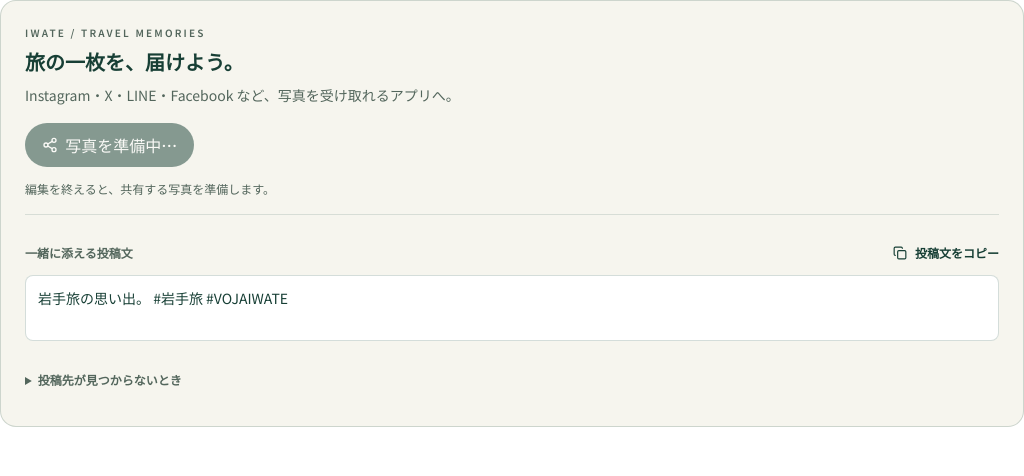
Scenario: PhotoSharePanel › keeps the caption selectable if clipboard permission is denied
Click the button "投稿文をコピー" at (946, 253), box [893,231,999,275]
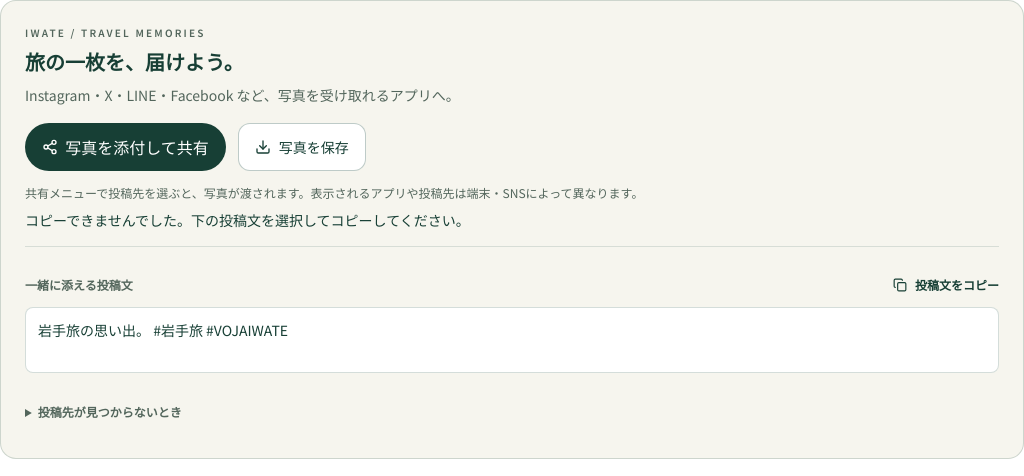
Expected: the text box labelled "一緒に添える投稿文" holds "岩手旅の思い出。 #岩手旅 #VOJAIWATE", [25,307,999,373]
Expected: the text "コピーできませんでした。下の投稿文を選択してコピーしてください。" is shown, [25,210,470,230]
